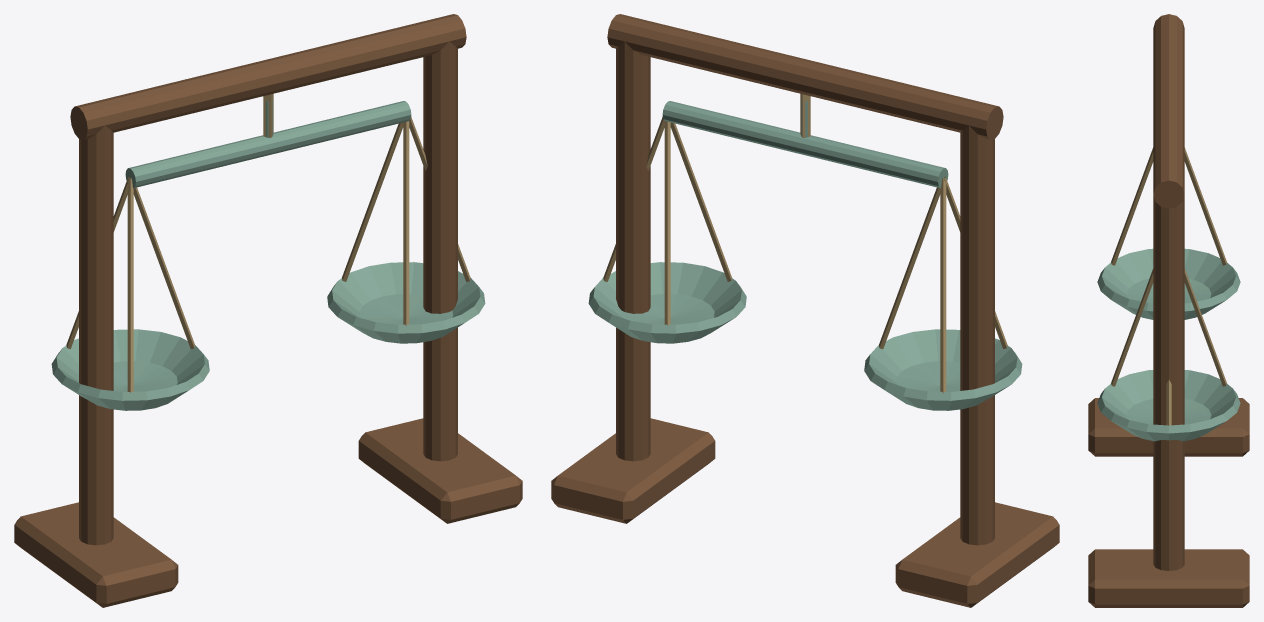
The picture shows the model from 3 angles, left to right: view 1: azimuth 30°, elevation 25°; view 2: azimuth 150°, elevation 25°; view 3: azimuth 270°, elevation 25°; orthographic projection. The views are drawn at different scales.
Parts seen in each view (by area): view 1: BA-0031 batched; view 2: BA-0031 batched; view 3: BA-0031 batched.
Part boxes in pixels (x1,y1,x2,y2): BA-0031 batched: (14, 14, 522, 607); BA-0031 batched: (551, 14, 1059, 607); BA-0031 batched: (1088, 14, 1249, 607).
Bounding box in the file's own units: 0.99 × 1.03 × 0.36.
